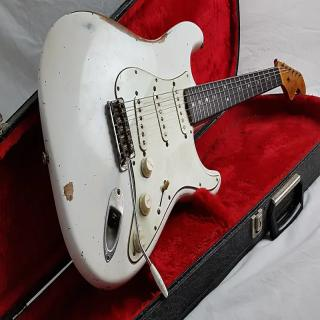Fender Stratocaster: (36, 10, 308, 292)
SSS: (133, 83, 190, 160)
